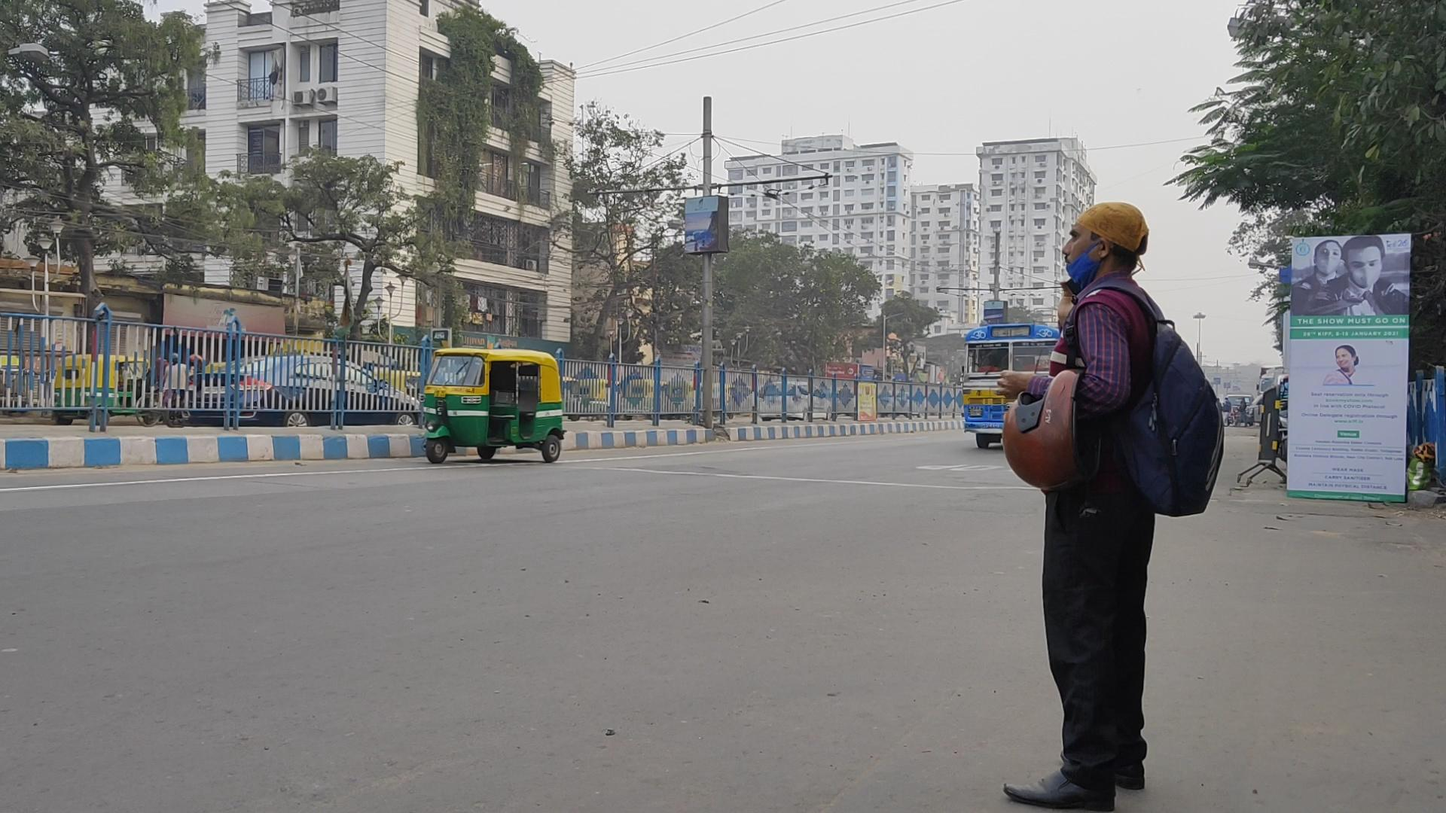Auto: (418, 347, 567, 464)
Bus: (960, 323, 1075, 449)
